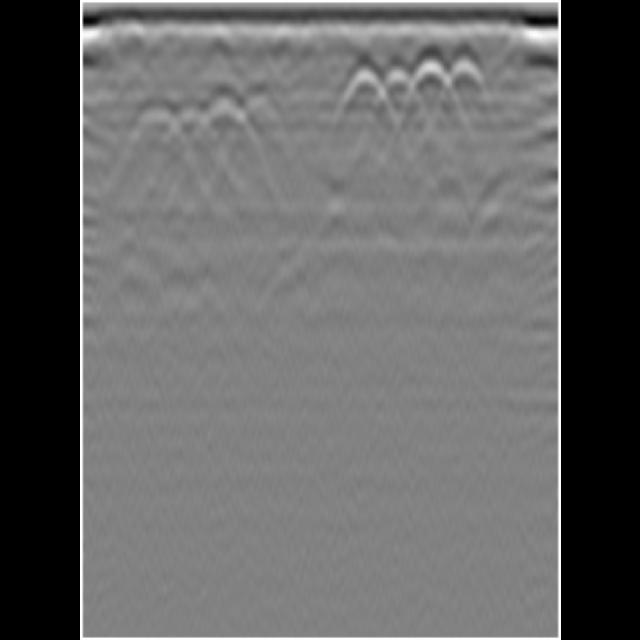hyperbola: (126, 100, 180, 163), (341, 58, 391, 114), (232, 90, 284, 138), (199, 94, 241, 146), (168, 108, 208, 152), (407, 58, 448, 100), (442, 55, 483, 97), (375, 64, 411, 110)
